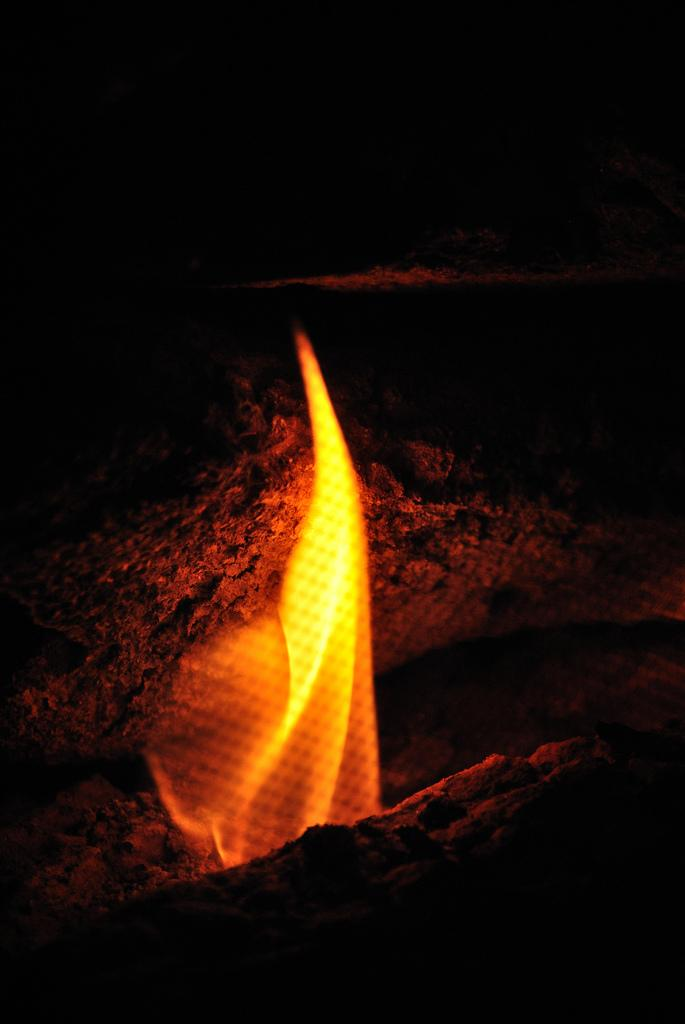fire: (252, 505, 372, 840)
